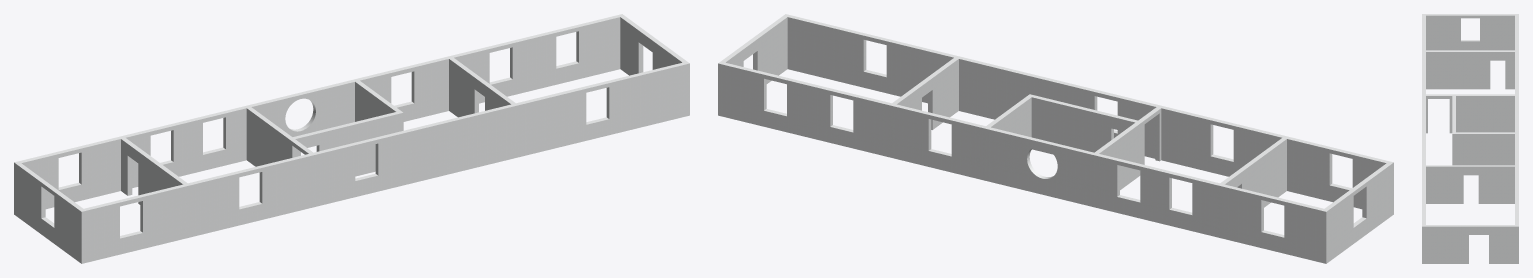
Rendered from game-house-walls.fbx.
The picture shows the model from 3 angles, left to right: view 1: azimuth 30°, elevation 25°; view 2: azimuth 150°, elevation 25°; view 3: azimuth 270°, elevation 25°; orthographic projection. The views are drawn at different scales.
Parts seen in each view (by area): view 1: FbxMesh (×16); view 2: FbxMesh (×18); view 3: FbxMesh (×15).
Part boxes in pixels (<box>): FbxMesh (×16): <box>14,14,689,263</box>; FbxMesh (×18): <box>718,14,1393,263</box>; FbxMesh (×15): <box>1422,14,1518,263</box>.
Bounding box in the file's own units: 31.76 × 2.6 × 6.11.
Materials: 1 (1 with a texture image).
